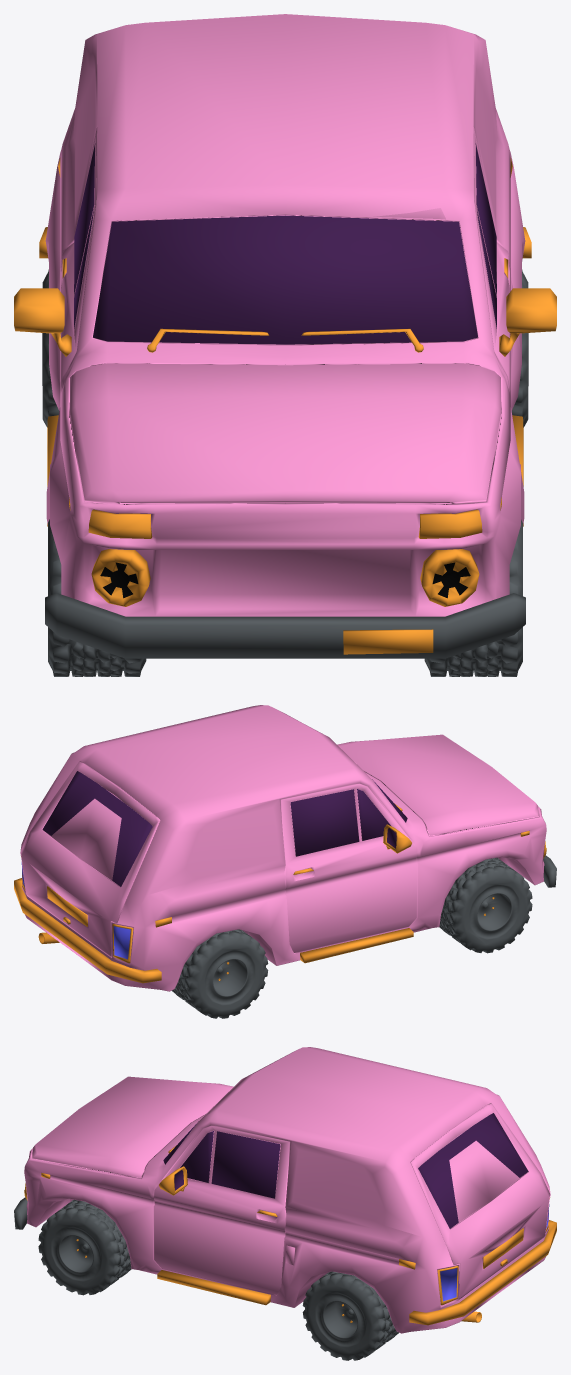
The model's file is Toy197.fbx.
3 renders of one model, top to bottom at view 1: azimuth 30°, elevation 25°; view 2: azimuth 150°, elevation 25°; view 3: azimuth 270°, elevation 25°, orthographic. The views are drawn at different scales.
Visible parts, largest first — view 1: Toy197; view 2: Toy197; view 3: Toy197.
Boxes of the visible parts, left/top/right/bottom form: Toy197: left=14, top=14, right=556, bottom=676; Toy197: left=14, top=705, right=556, bottom=1018; Toy197: left=14, top=1047, right=556, bottom=1360.
Bounding box in the file's own units: 0.1751 × 0.086 × 0.206.
